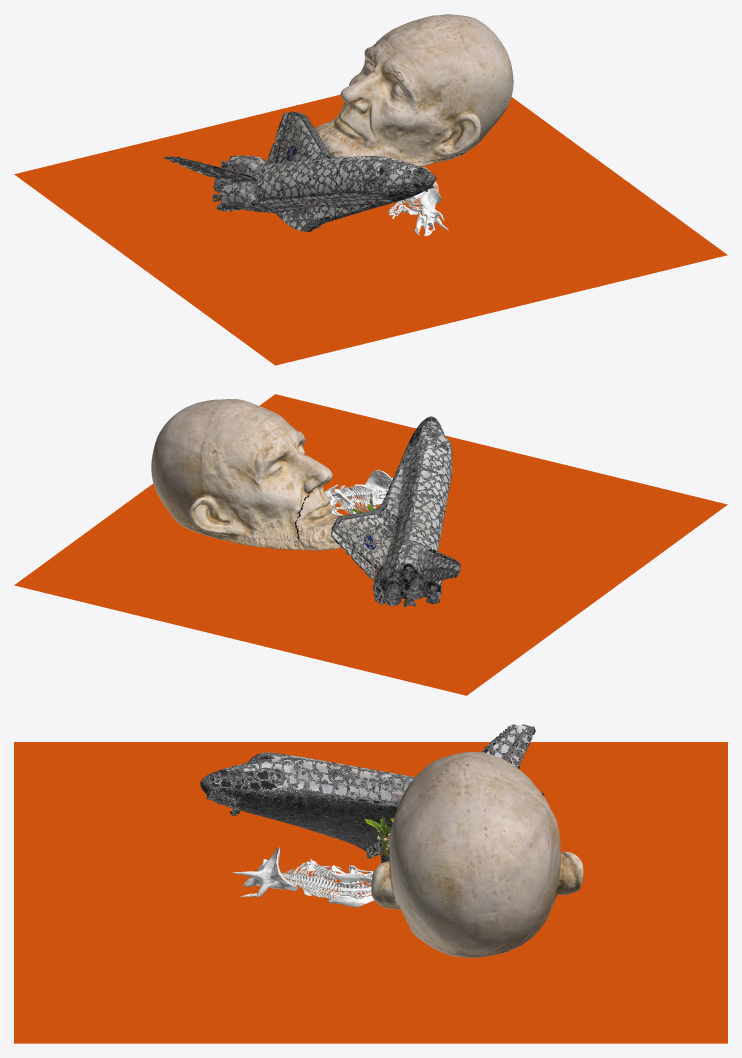
The model's file is Project.glb.
3 renders of one model, top to bottom at view 1: azimuth 30°, elevation 25°; view 2: azimuth 150°, elevation 25°; view 3: azimuth 270°, elevation 25°, orthographic. The views are drawn at different scales.
Parts seen in each view (by area): view 1: Plane, abraham-lincoln-mills-life-mask-master-geometry, SShuttle_Exterior, Triceratops_horridus_Marsh_1889-150k; view 2: Plane, abraham-lincoln-mills-life-mask-master-geometry, SShuttle_Exterior, Triceratops_horridus_Marsh_1889-150k; view 3: Plane, abraham-lincoln-mills-life-mask-master-geometry, SShuttle_Exterior, Triceratops_horridus_Marsh_1889-150k, sg-2018-1177a-lycaste-presentation_model-m.
Part boxes in pixels (<box>): Plane: <box>14,94,727,365</box>; abraham-lincoln-mills-life-mask-master-geometry: <box>315,14,513,166</box>; SShuttle_Exterior: <box>164,111,436,231</box>; Triceratops_horridus_Marsh_1889-150k: <box>388,167,448,236</box>; Plane: <box>14,394,727,695</box>; abraham-lincoln-mills-life-mask-master-geometry: <box>151,399,341,550</box>; SShuttle_Exterior: <box>330,416,460,607</box>; Triceratops_horridus_Marsh_1889-150k: <box>325,470,392,515</box>; Plane: <box>14,742,727,1043</box>; abraham-lincoln-mills-life-mask-master-geometry: <box>371,752,583,957</box>; SShuttle_Exterior: <box>200,724,544,858</box>; Triceratops_horridus_Marsh_1889-150k: <box>233,847,374,907</box>; sg-2018-1177a-lycaste-presentation_model-m: <box>364,817,393,862</box>.
Bounding box in the file's own units: 23.02 × 9.49 × 23.02.
5 materials, 3 textured.
